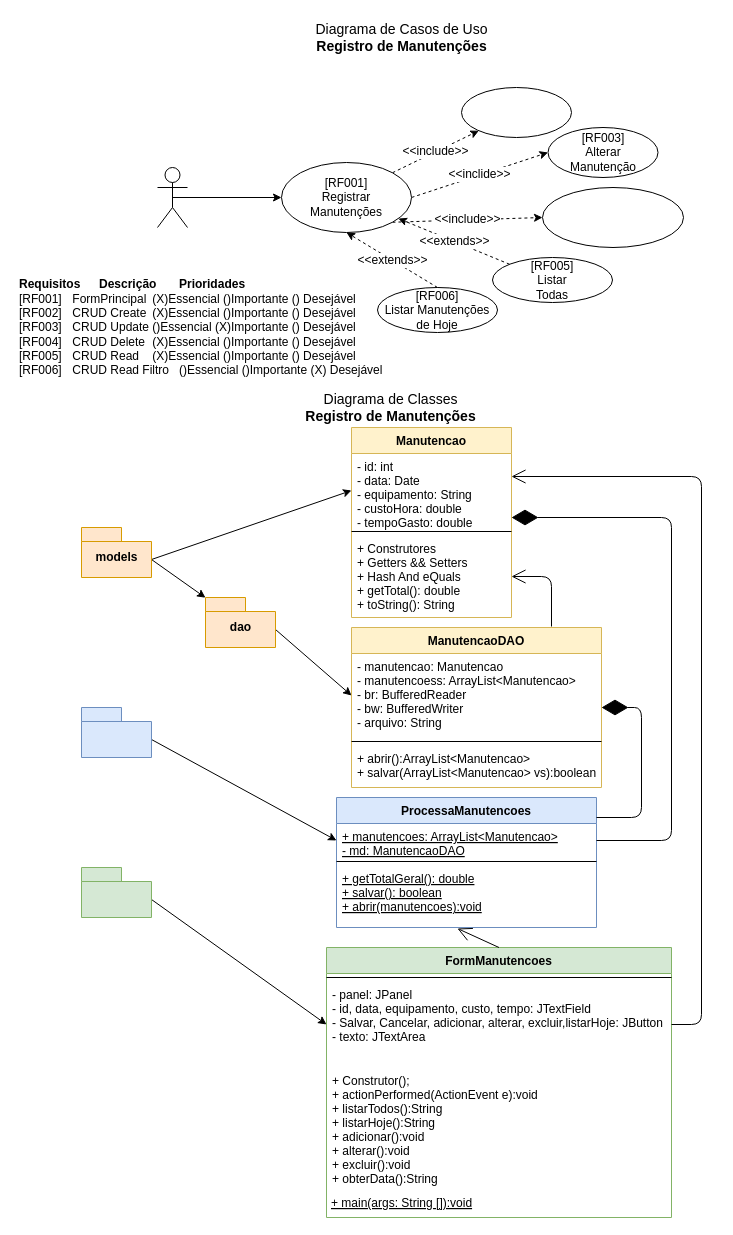
Some shapes in this 733 by 1235 pixel diagram are drawn without their labels. The centre of each missing label's shape, as x and y in pixels:
[RF002] Adicionar Manutenção: point (516, 112)
[RF004] Excluir Manutenção: point (613, 217)
controllers: point (116, 732)
Usuário: point (172, 197)
viewers: point (116, 892)
